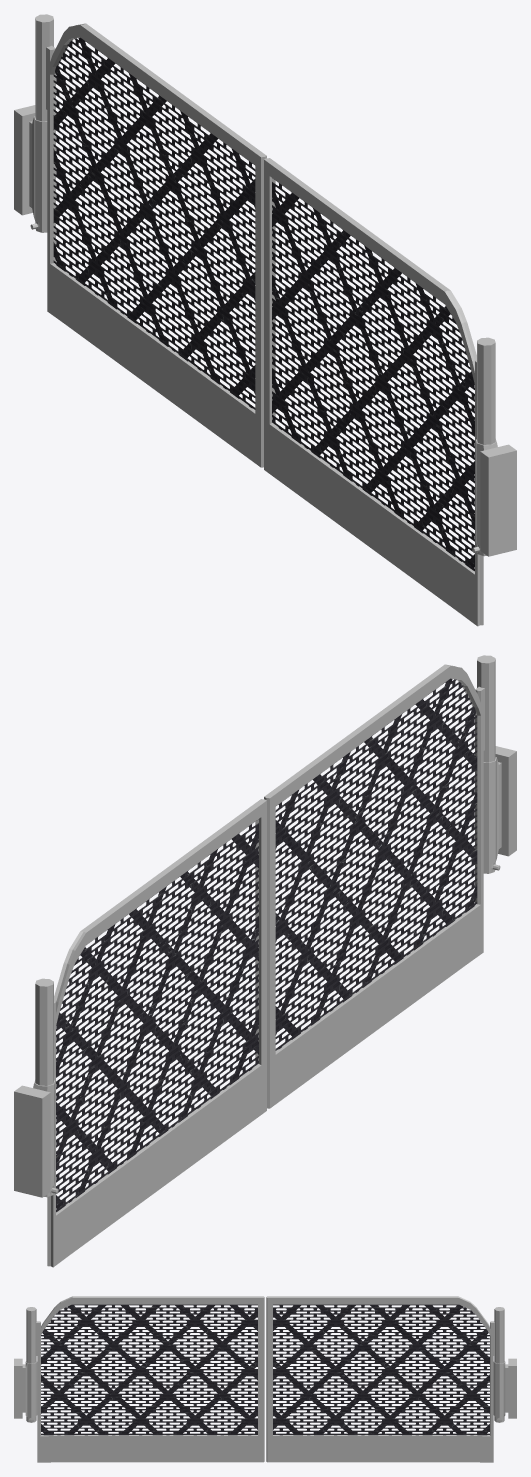
Rendered from GateMain.fbx.
3 renders of one model, top to bottom at view 1: azimuth 30°, elevation 25°; view 2: azimuth 150°, elevation 25°; view 3: azimuth 270°, elevation 25°, orthographic. The views are drawn at different scales.
Parts seen in each view (by area): view 1: Cube.012; view 2: Cube.012; view 3: Cube.012.
Part boxes in pixels (x1=…): Cube.012: x1=14, y1=14, x2=516, y2=626; Cube.012: x1=14, y1=655, x2=516, y2=1267; Cube.012: x1=14, y1=1296, x2=516, y2=1462.
Size of the model in its own units: 60 by 1732 by 625.
